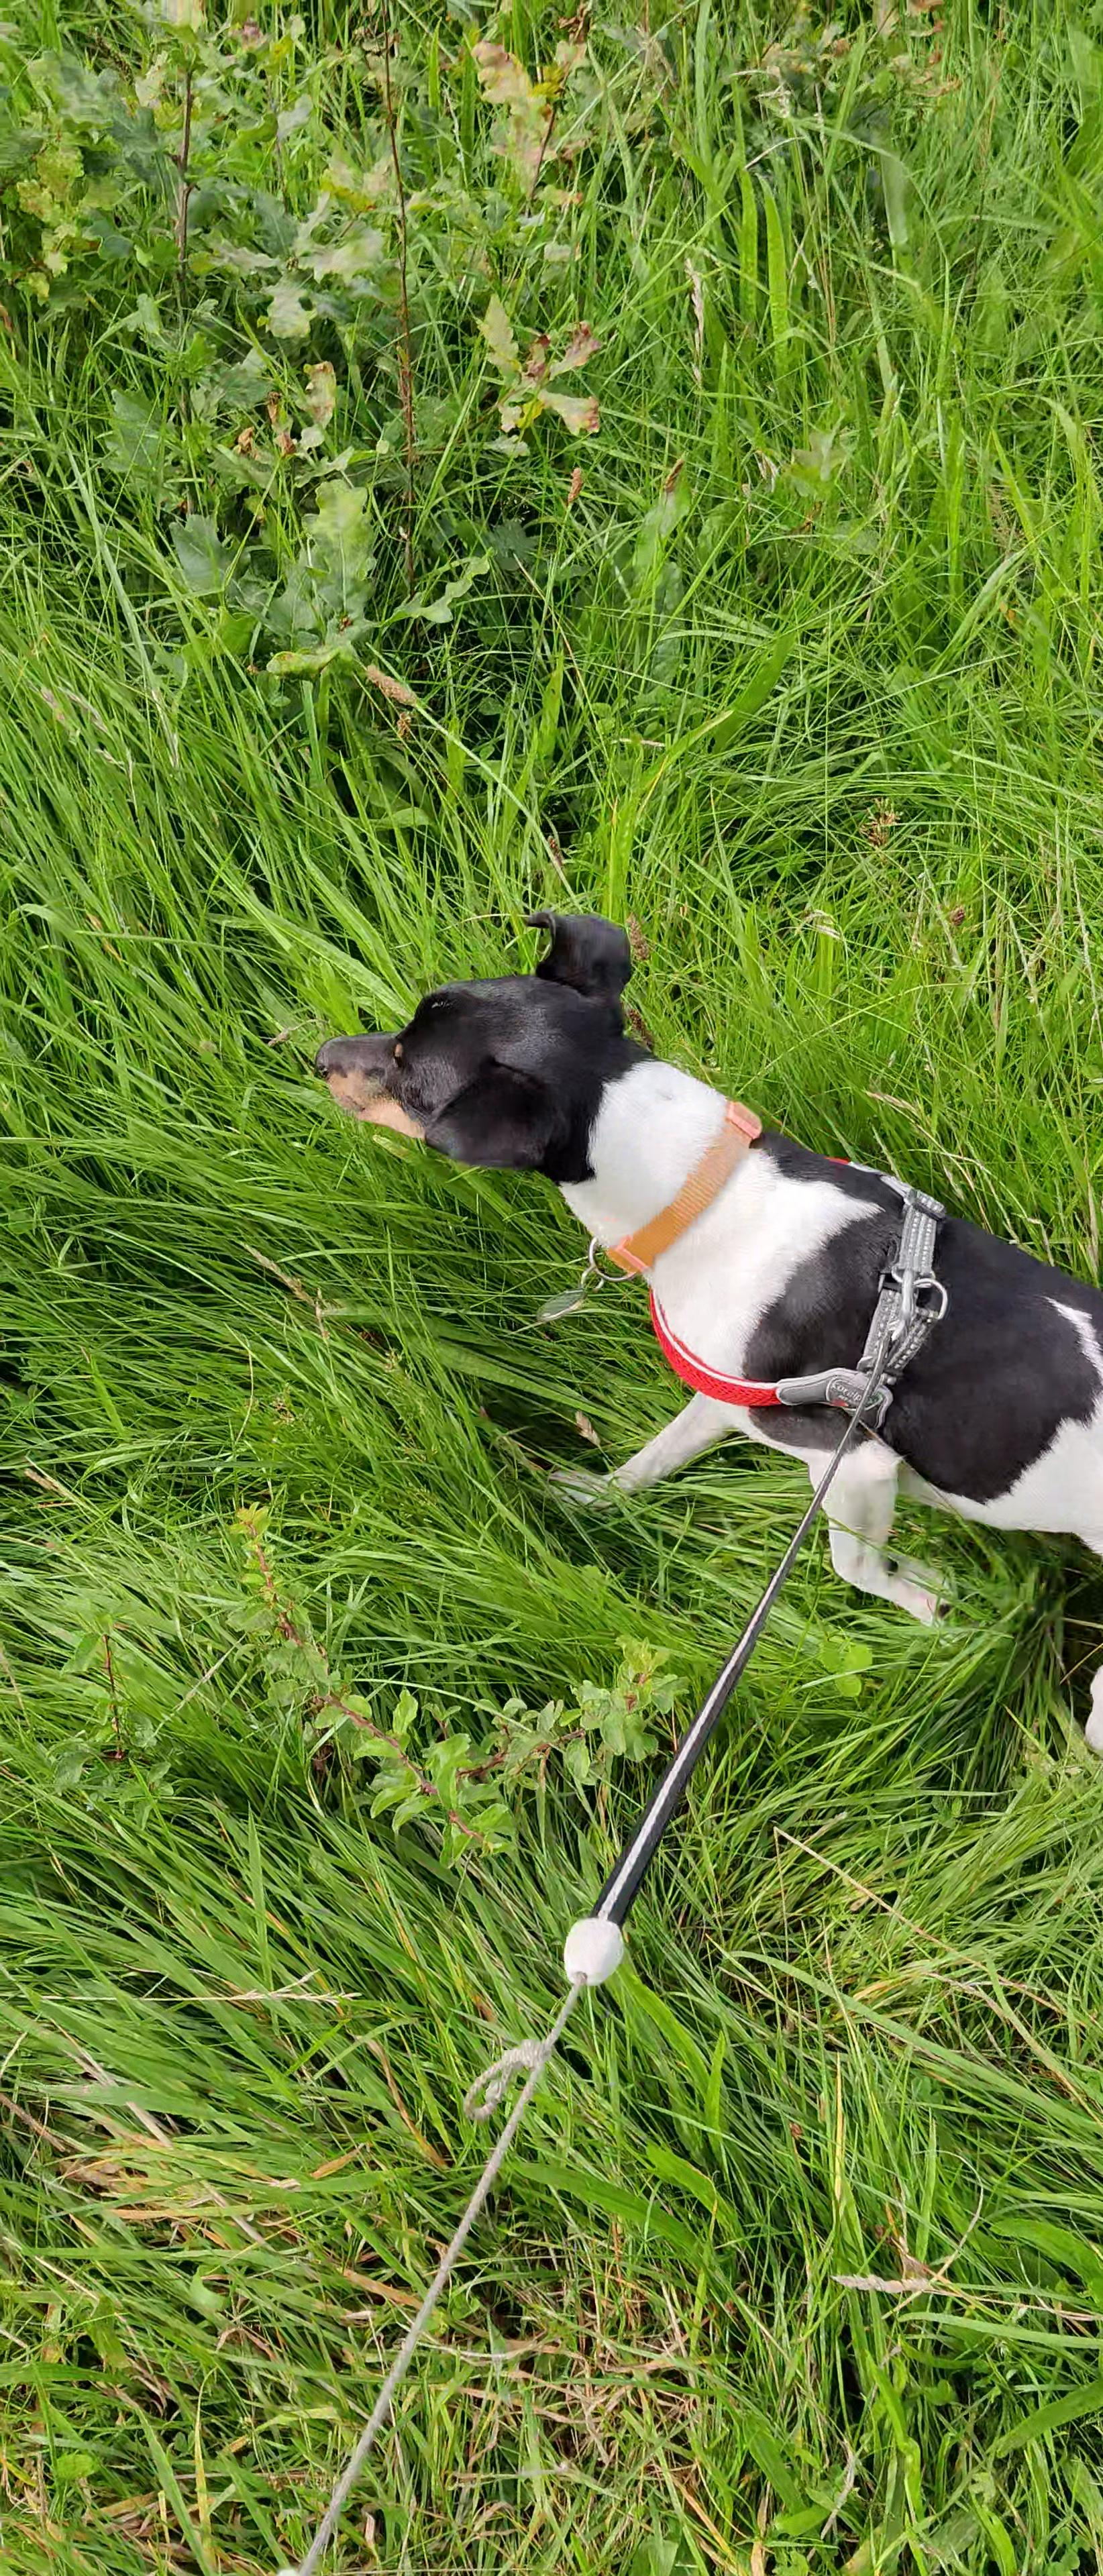Dog: (276, 876, 1103, 1763)
